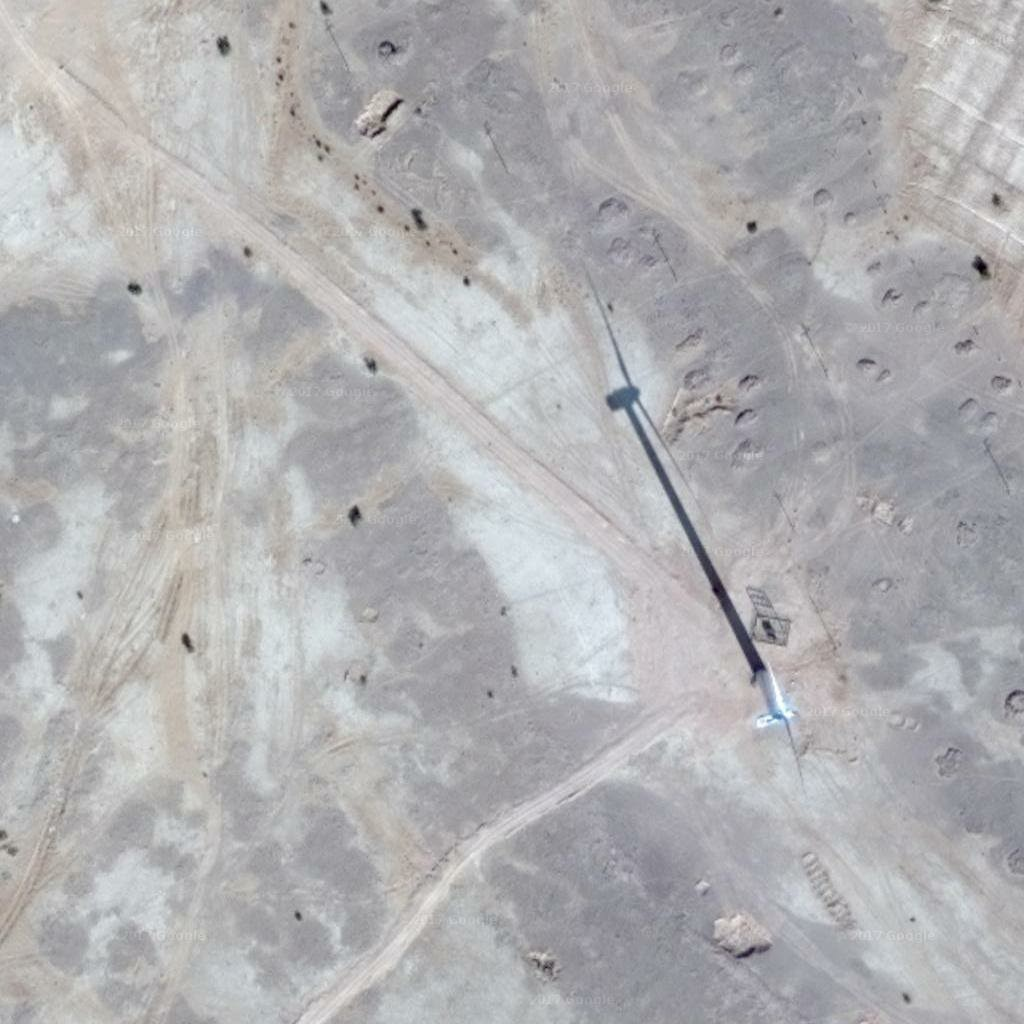Windmill: (579, 265, 781, 669)
